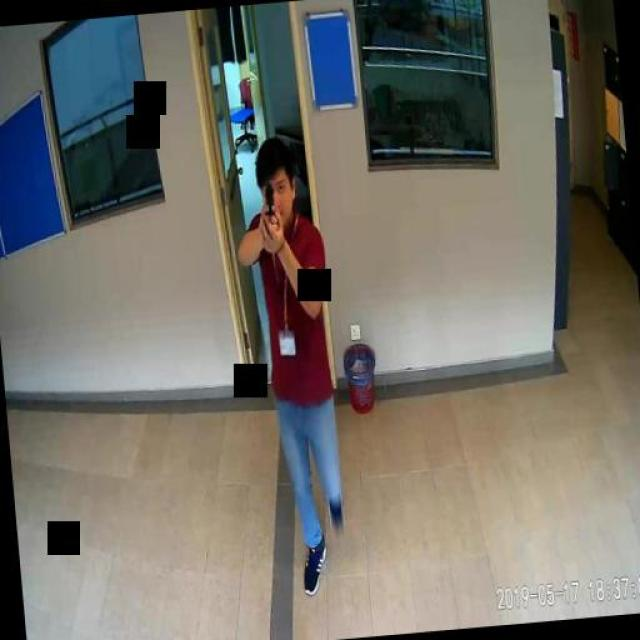gun: (259, 180, 279, 234)
